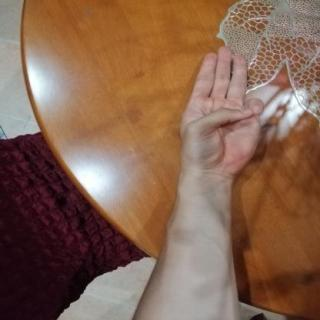THA: (166, 38, 273, 180)
